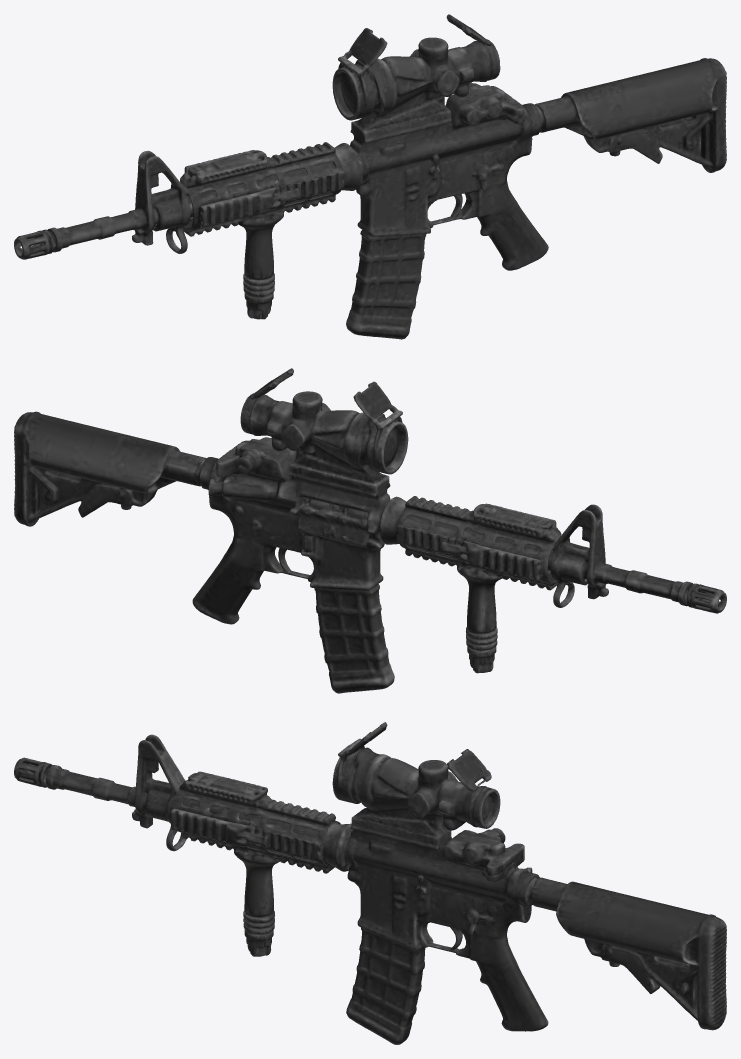
3 renders of one model, top to bottom at view 1: azimuth 30°, elevation 25°; view 2: azimuth 150°, elevation 25°; view 3: azimuth 330°, elevation 25°, orthographic.
Bounding box in the file's own units: 1.9 × 0.799 × 0.1704.
Materials: 1 (1 with a texture image).
